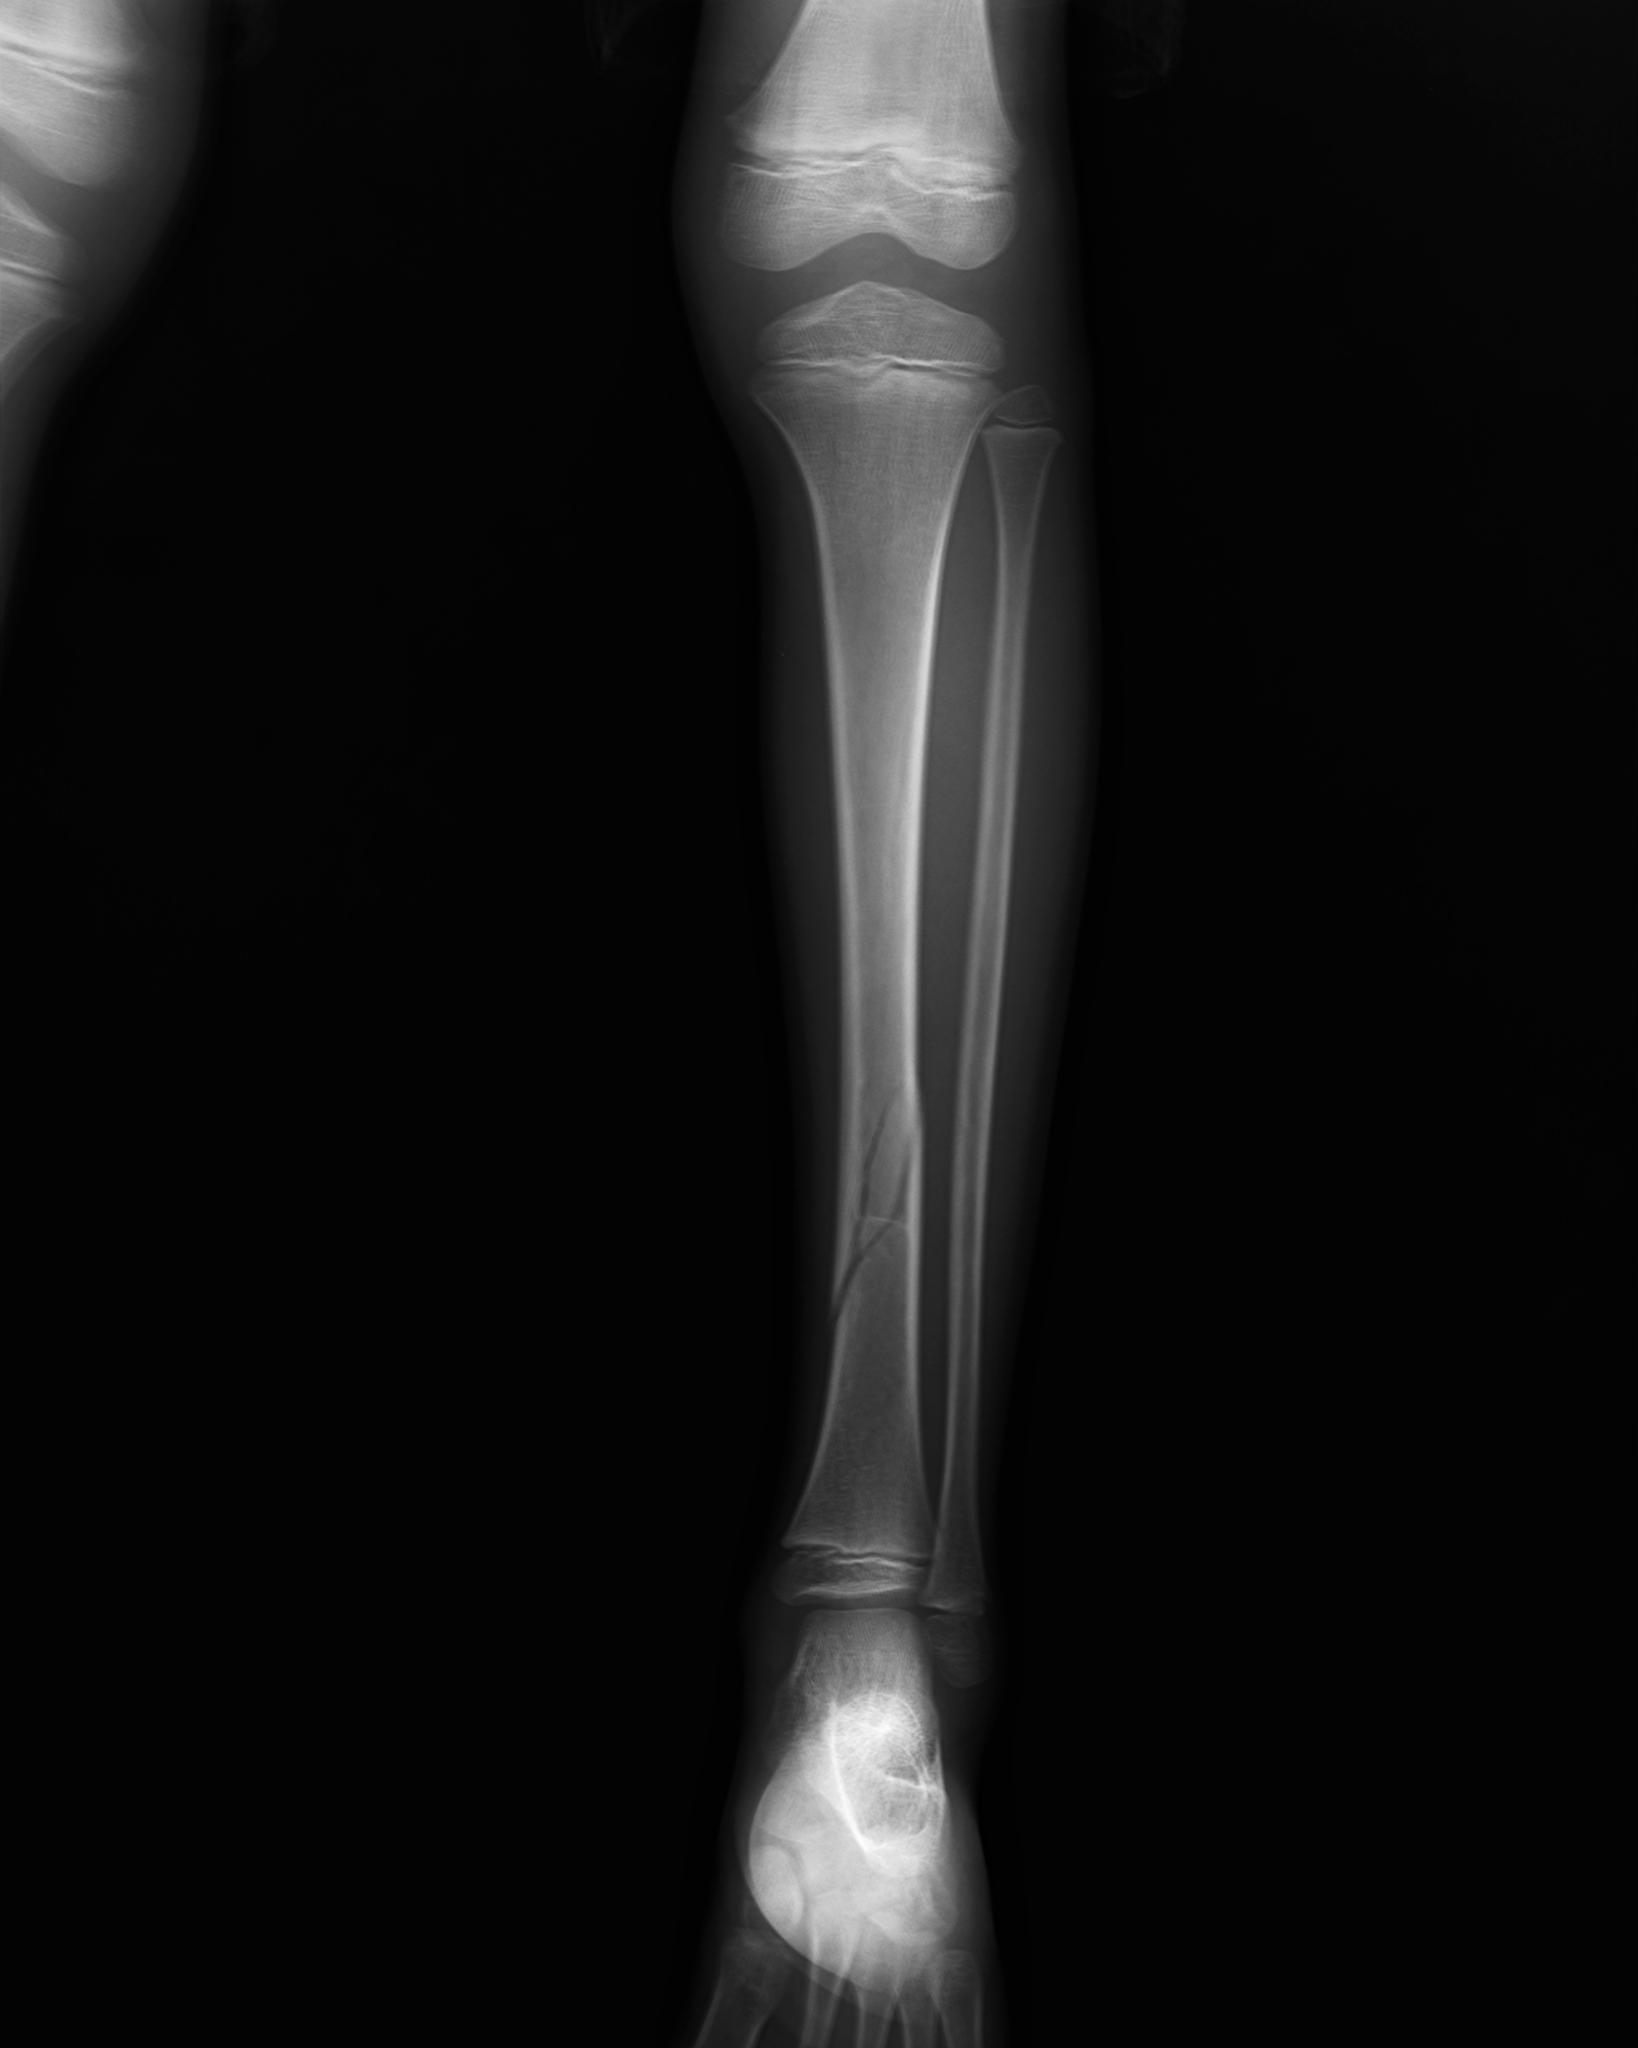fractured: (819, 1063, 923, 1329)
